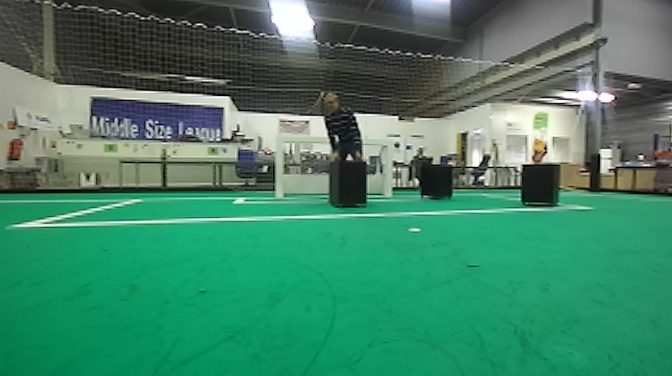goalpost: (271, 132, 290, 200), (382, 139, 398, 196)
human: (316, 91, 368, 168)
